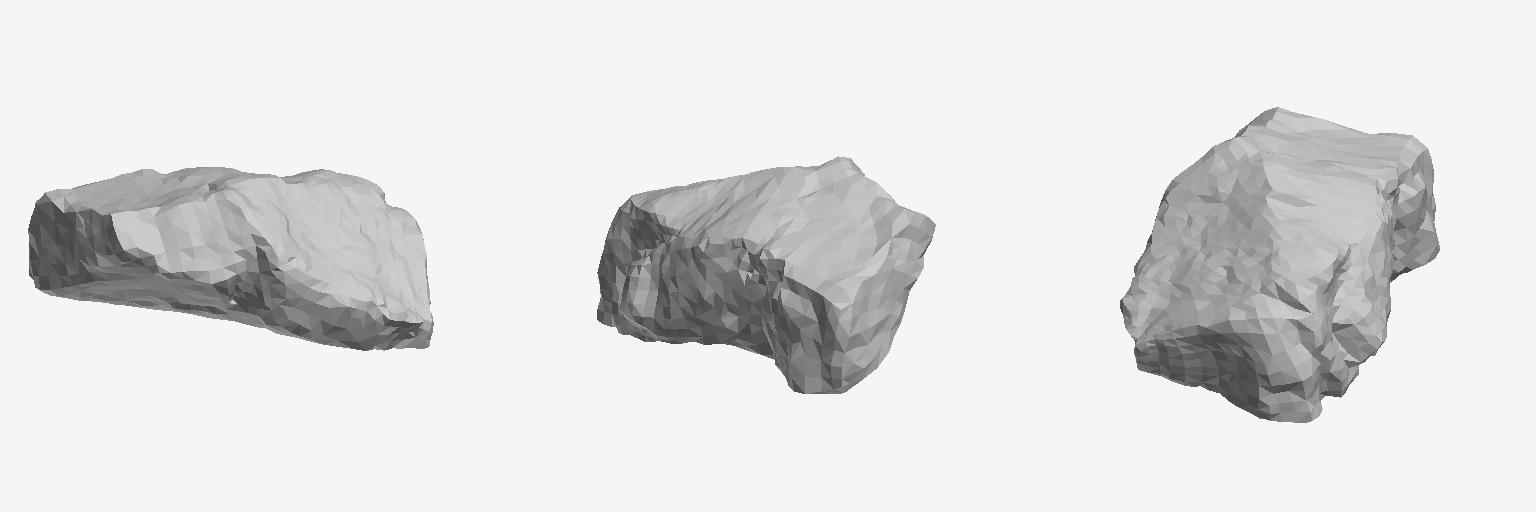
Rendered from rock.obj.
3 views of the same model, side by side, from view 1: azimuth 30°, elevation 25°; view 2: azimuth 150°, elevation 25°; view 3: azimuth 270°, elevation 25° (orthographic).
Parts seen in each view (by area): view 1: Stone_01_Base; view 2: Stone_01_Base; view 3: Stone_01_Base.
Boxes of the visible parts, x1=… form: Stone_01_Base: x1=28, y1=167, x2=433, y2=350; Stone_01_Base: x1=597, y1=156, x2=935, y2=393; Stone_01_Base: x1=1120, y1=107, x2=1439, y2=422.
Size of the model in its own units: 6.18 by 3.41 by 5.26.